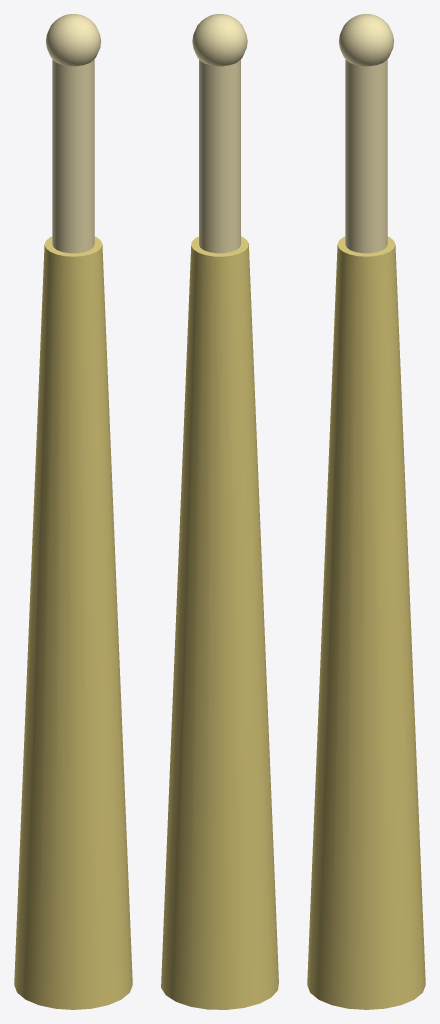
File: VM-ACC-EXT143.glb
3 renders of one model, left to right at view 1: azimuth 90°, elevation 25°; view 2: azimuth 150°, elevation 25°; view 3: azimuth 270°, elevation 25°, orthographic.
Parts seen in each view (by area): view 1: Bate de Críquet; view 2: Bate de Críquet; view 3: Bate de Críquet.
Part boxes in pixels (bbox=[...]): Bate de Críquet: bbox=[14, 14, 132, 1009]; Bate de Críquet: bbox=[161, 14, 278, 1009]; Bate de Críquet: bbox=[307, 14, 425, 1009].
Bounding box in the file's own units: 0.0946 × 0.852 × 0.0946.
